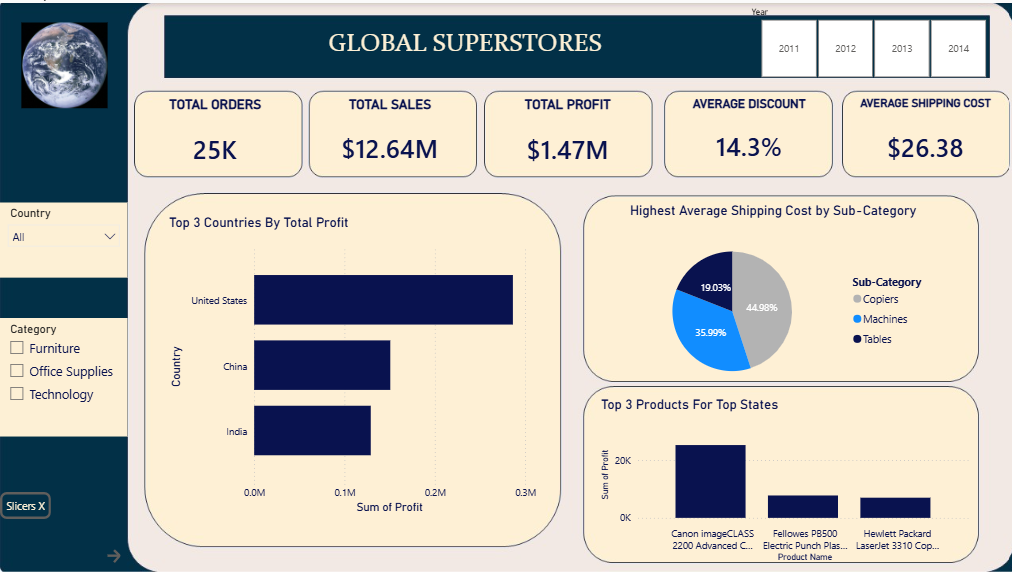

What the dashboard file says about the page in this screenshot:
{"tool":"powerbi","page":{"name":"Page 1","canvas":[1280,720],"ordinal":0},"visuals":[{"type":"cardVisual","title":"TOTAL ORDERS","fields":{"Data":["Measure Table.Total Orders"]},"box":[183.3,117.2,175.7,100],"z":0},{"type":"cardVisual","title":"TOTAL PROFIT","fields":{"Data":["Measure Table.Total Profit"]},"box":[614.2,117.2,202.2,100.2],"z":1000},{"type":"cardVisual","title":"TOTAL SALES","fields":{"Data":["Measure Table.Total Sales"]},"box":[395,117.2,192.8,96.4],"z":2000},{"type":"cardVisual","title":"AVERAGE SHIPPING COST","fields":{"Data":["Measure Table.Average Shipping Cost"]},"box":[1065.8,117.2,200.3,98.3],"z":3000},{"type":"cardVisual","title":"AVERAGE DISCOUNT","fields":{"Data":["Measure Table.Average Discount"]},"box":[842.8,117.2,202.2,94.5],"z":4000},{"type":"slicer","fields":{"Values":["Calendar Table.Year"]},"box":[933.6,0,332.6,100.2],"z":5000},{"type":"slicer","fields":{"Values":["Orders.Country"]},"box":[0,251.3,160.6,94.5],"z":6000},{"type":"slicer","fields":{"Values":["Orders.Category"]},"box":[0,396.9,160.6,149.3],"z":7000},{"type":"barChart","title":"Top 3 Countries By Total Profit","fields":{"Category":["Orders.Country"],"Y":["Sum(Orders.Profit)"]},"box":[207.9,266.5,472.4,381.7],"z":8000},{"type":"pieChart","title":"Highest Average Shipping Cost by Sub-Category","fields":{"Category":["Orders.Sub-Category"],"Y":["Avg(Orders.Shipping Cost)"]},"box":[765.4,251.3,417.6,243.8],"z":9000},{"type":"actionButton","box":[0,615.6,64.3,34],"z":10000},{"type":"textbox","box":[270.4,23.9,631.5,58.9],"z":11000},{"type":"actionButton","box":[130.4,684,30.2,25.4],"z":12000},{"type":"image","box":[7.6,24.6,147.4,107.7],"z":13000},{"type":"columnChart","title":"Top 3 Products For Top States","fields":{"Category":["Orders.Product Name"],"Y":["Sum(Orders.Profit)"]},"box":[752.1,495.1,476.2,213.5],"z":14000}]}

Visuals, with their boxes in screenshot pixels (x1, y1, x2, y2), scaled from the page's 1280x720 canvas onto the 1012x574 screenshot:
"TOTAL ORDERS" cardVisual: bbox=(145, 93, 284, 173)
"TOTAL PROFIT" cardVisual: bbox=(486, 93, 645, 173)
"TOTAL SALES" cardVisual: bbox=(312, 93, 465, 170)
"AVERAGE SHIPPING COST" cardVisual: bbox=(843, 93, 1001, 172)
"AVERAGE DISCOUNT" cardVisual: bbox=(666, 93, 826, 169)
slicer - Calendar Table.Year: bbox=(738, 0, 1001, 80)
slicer - Orders.Country: bbox=(0, 200, 127, 276)
slicer - Orders.Category: bbox=(0, 316, 127, 435)
"Top 3 Countries By Total Profit" barChart: bbox=(164, 212, 538, 517)
"Highest Average Shipping Cost by Sub-Category" pieChart: bbox=(605, 200, 935, 395)
actionButton: bbox=(0, 491, 51, 518)
textbox: bbox=(214, 19, 713, 66)
actionButton: bbox=(103, 545, 127, 566)
image: bbox=(6, 20, 123, 105)
"Top 3 Products For Top States" columnChart: bbox=(595, 395, 971, 565)
